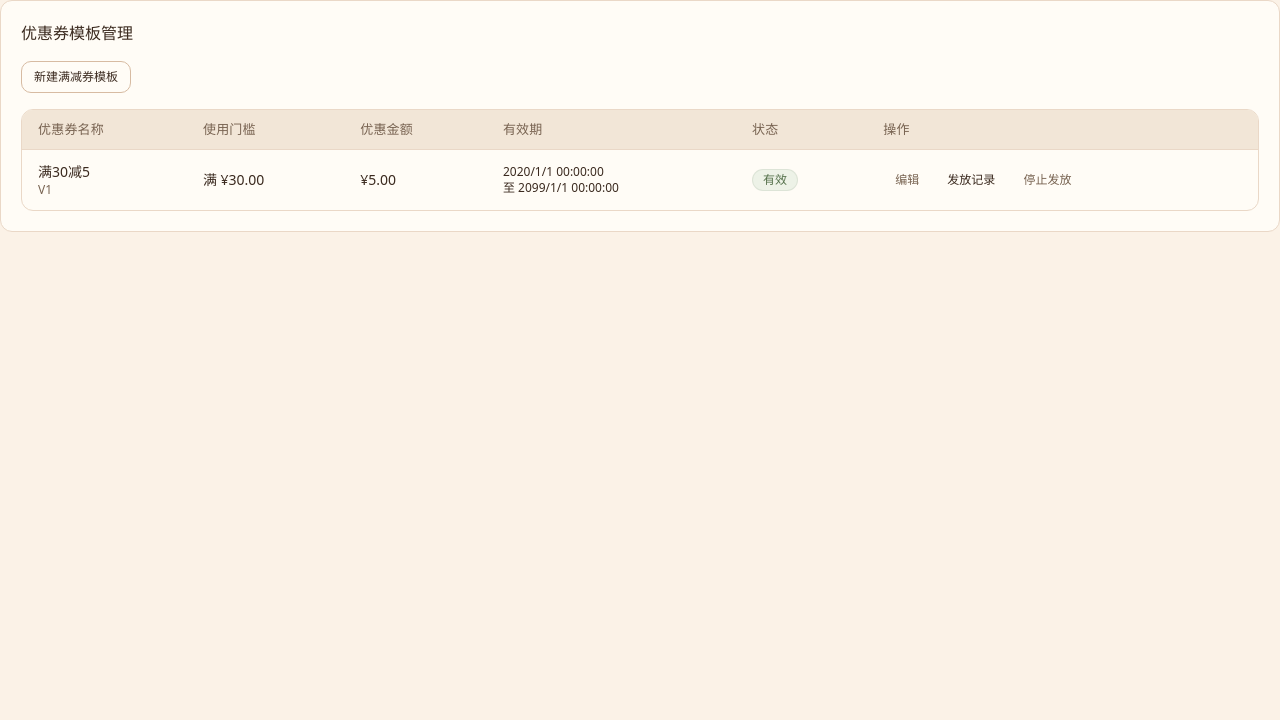
满减券用户操作 › 模板管理入口编辑时提交原版本，保存新版本后刷新列表
Click the button "编辑" at [907, 180], box [883,164,931,196]
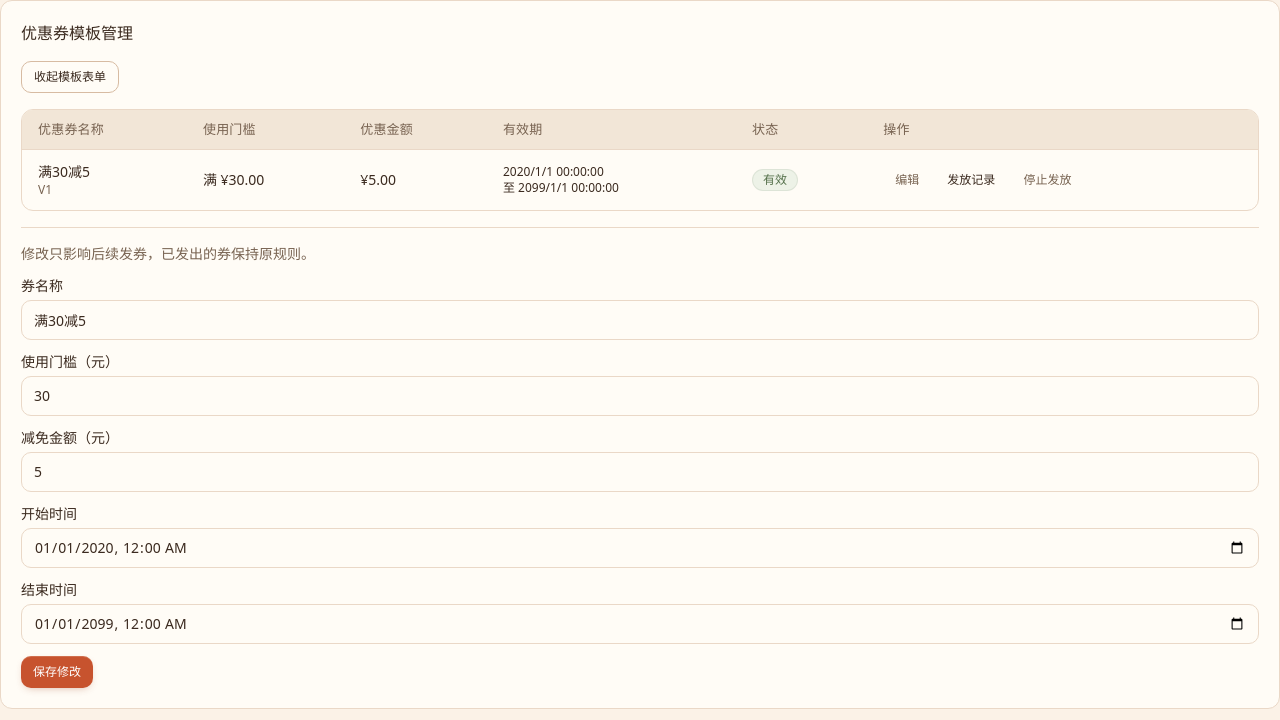
Check: the field labelled "券名称" holds "满30减5"
Replace the text in the field labelled "券名称" with "满30减8" at [640, 320], box [21,300,1259,340]
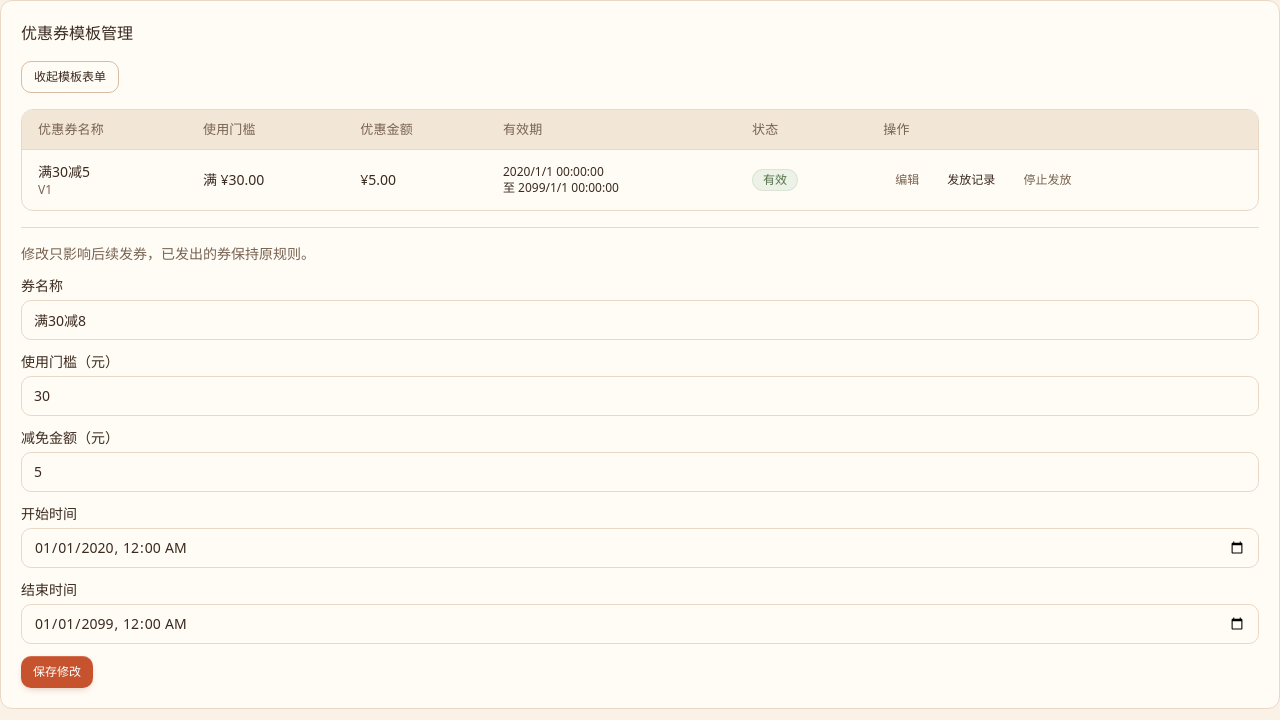
Replace the text in the number field labelled "减免金额（元）" with "8" at [640, 472], box [21,452,1259,492]
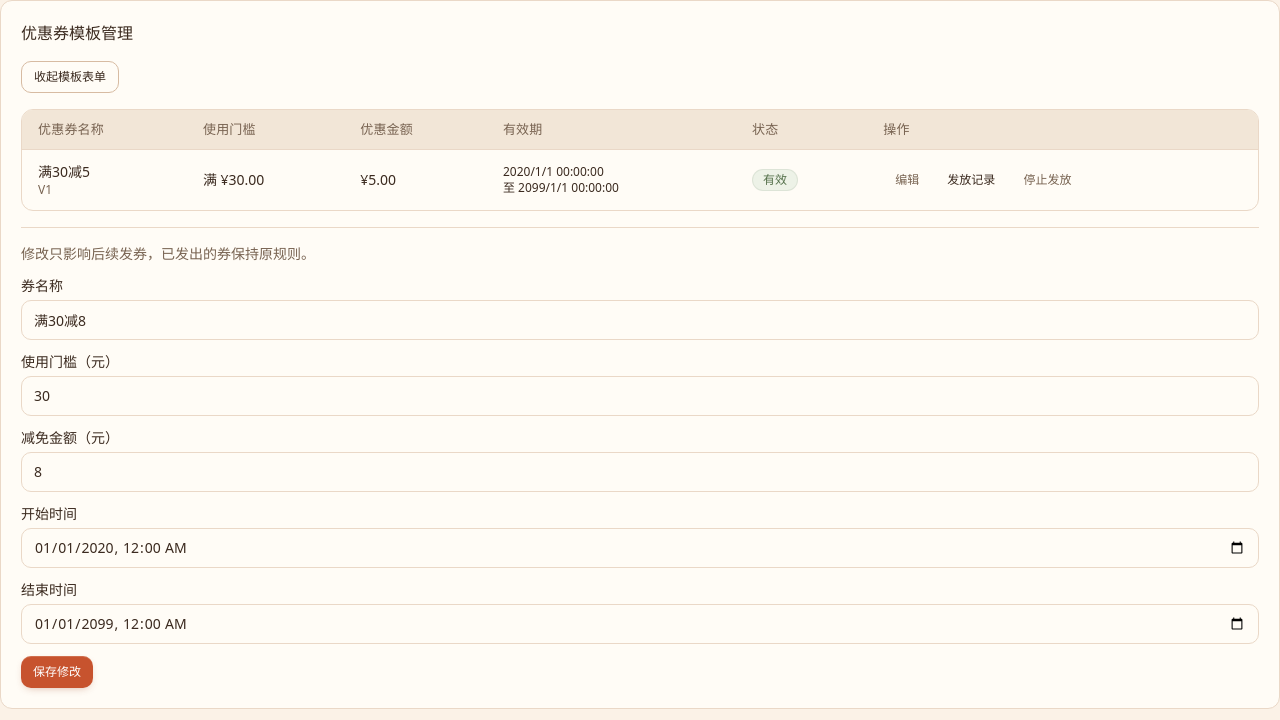
Click the button "保存修改" at [57, 672], box [21,656,93,688]
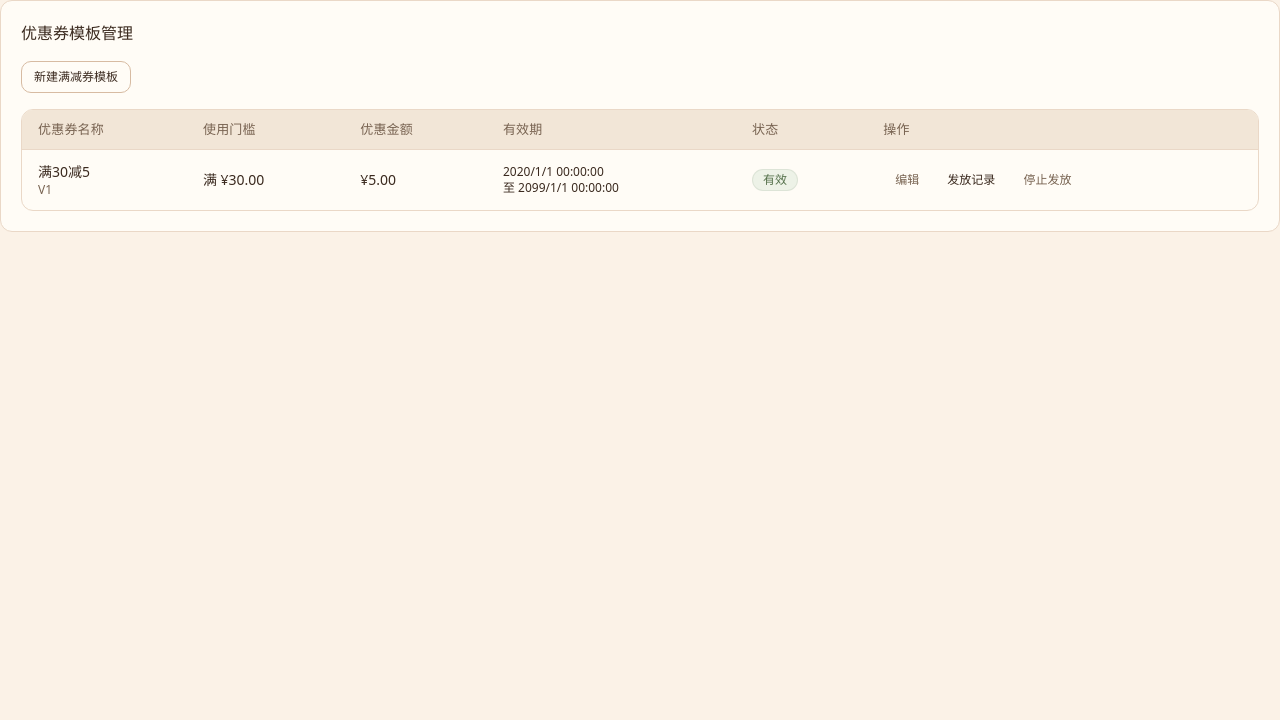
Check: the button "保存修改" is gone
